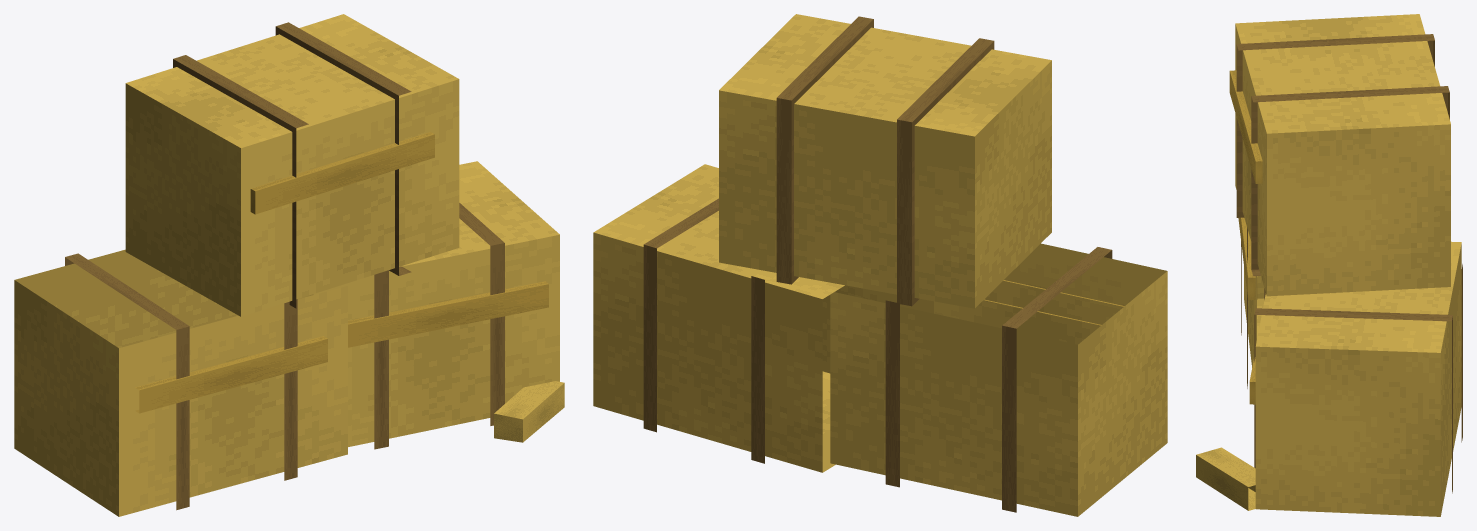
File: prop_hay_bale.glb
3 renders of one model, left to right at view 1: azimuth 30°, elevation 25°; view 2: azimuth 150°, elevation 25°; view 3: azimuth 270°, elevation 25°, orthographic. The views are drawn at different scales.
Parts seen in each view (by area): view 1: prop_hay_bale; view 2: prop_hay_bale; view 3: prop_hay_bale.
Boxes of the visible parts, left/top/right/bottom form: prop_hay_bale: left=14, top=14, right=564, bottom=516; prop_hay_bale: left=593, top=14, right=1167, bottom=516; prop_hay_bale: left=1196, top=14, right=1462, bottom=516.
Bounding box in the file's own units: 1.69 × 1.22 × 0.8629.
1 material, 1 textured.
